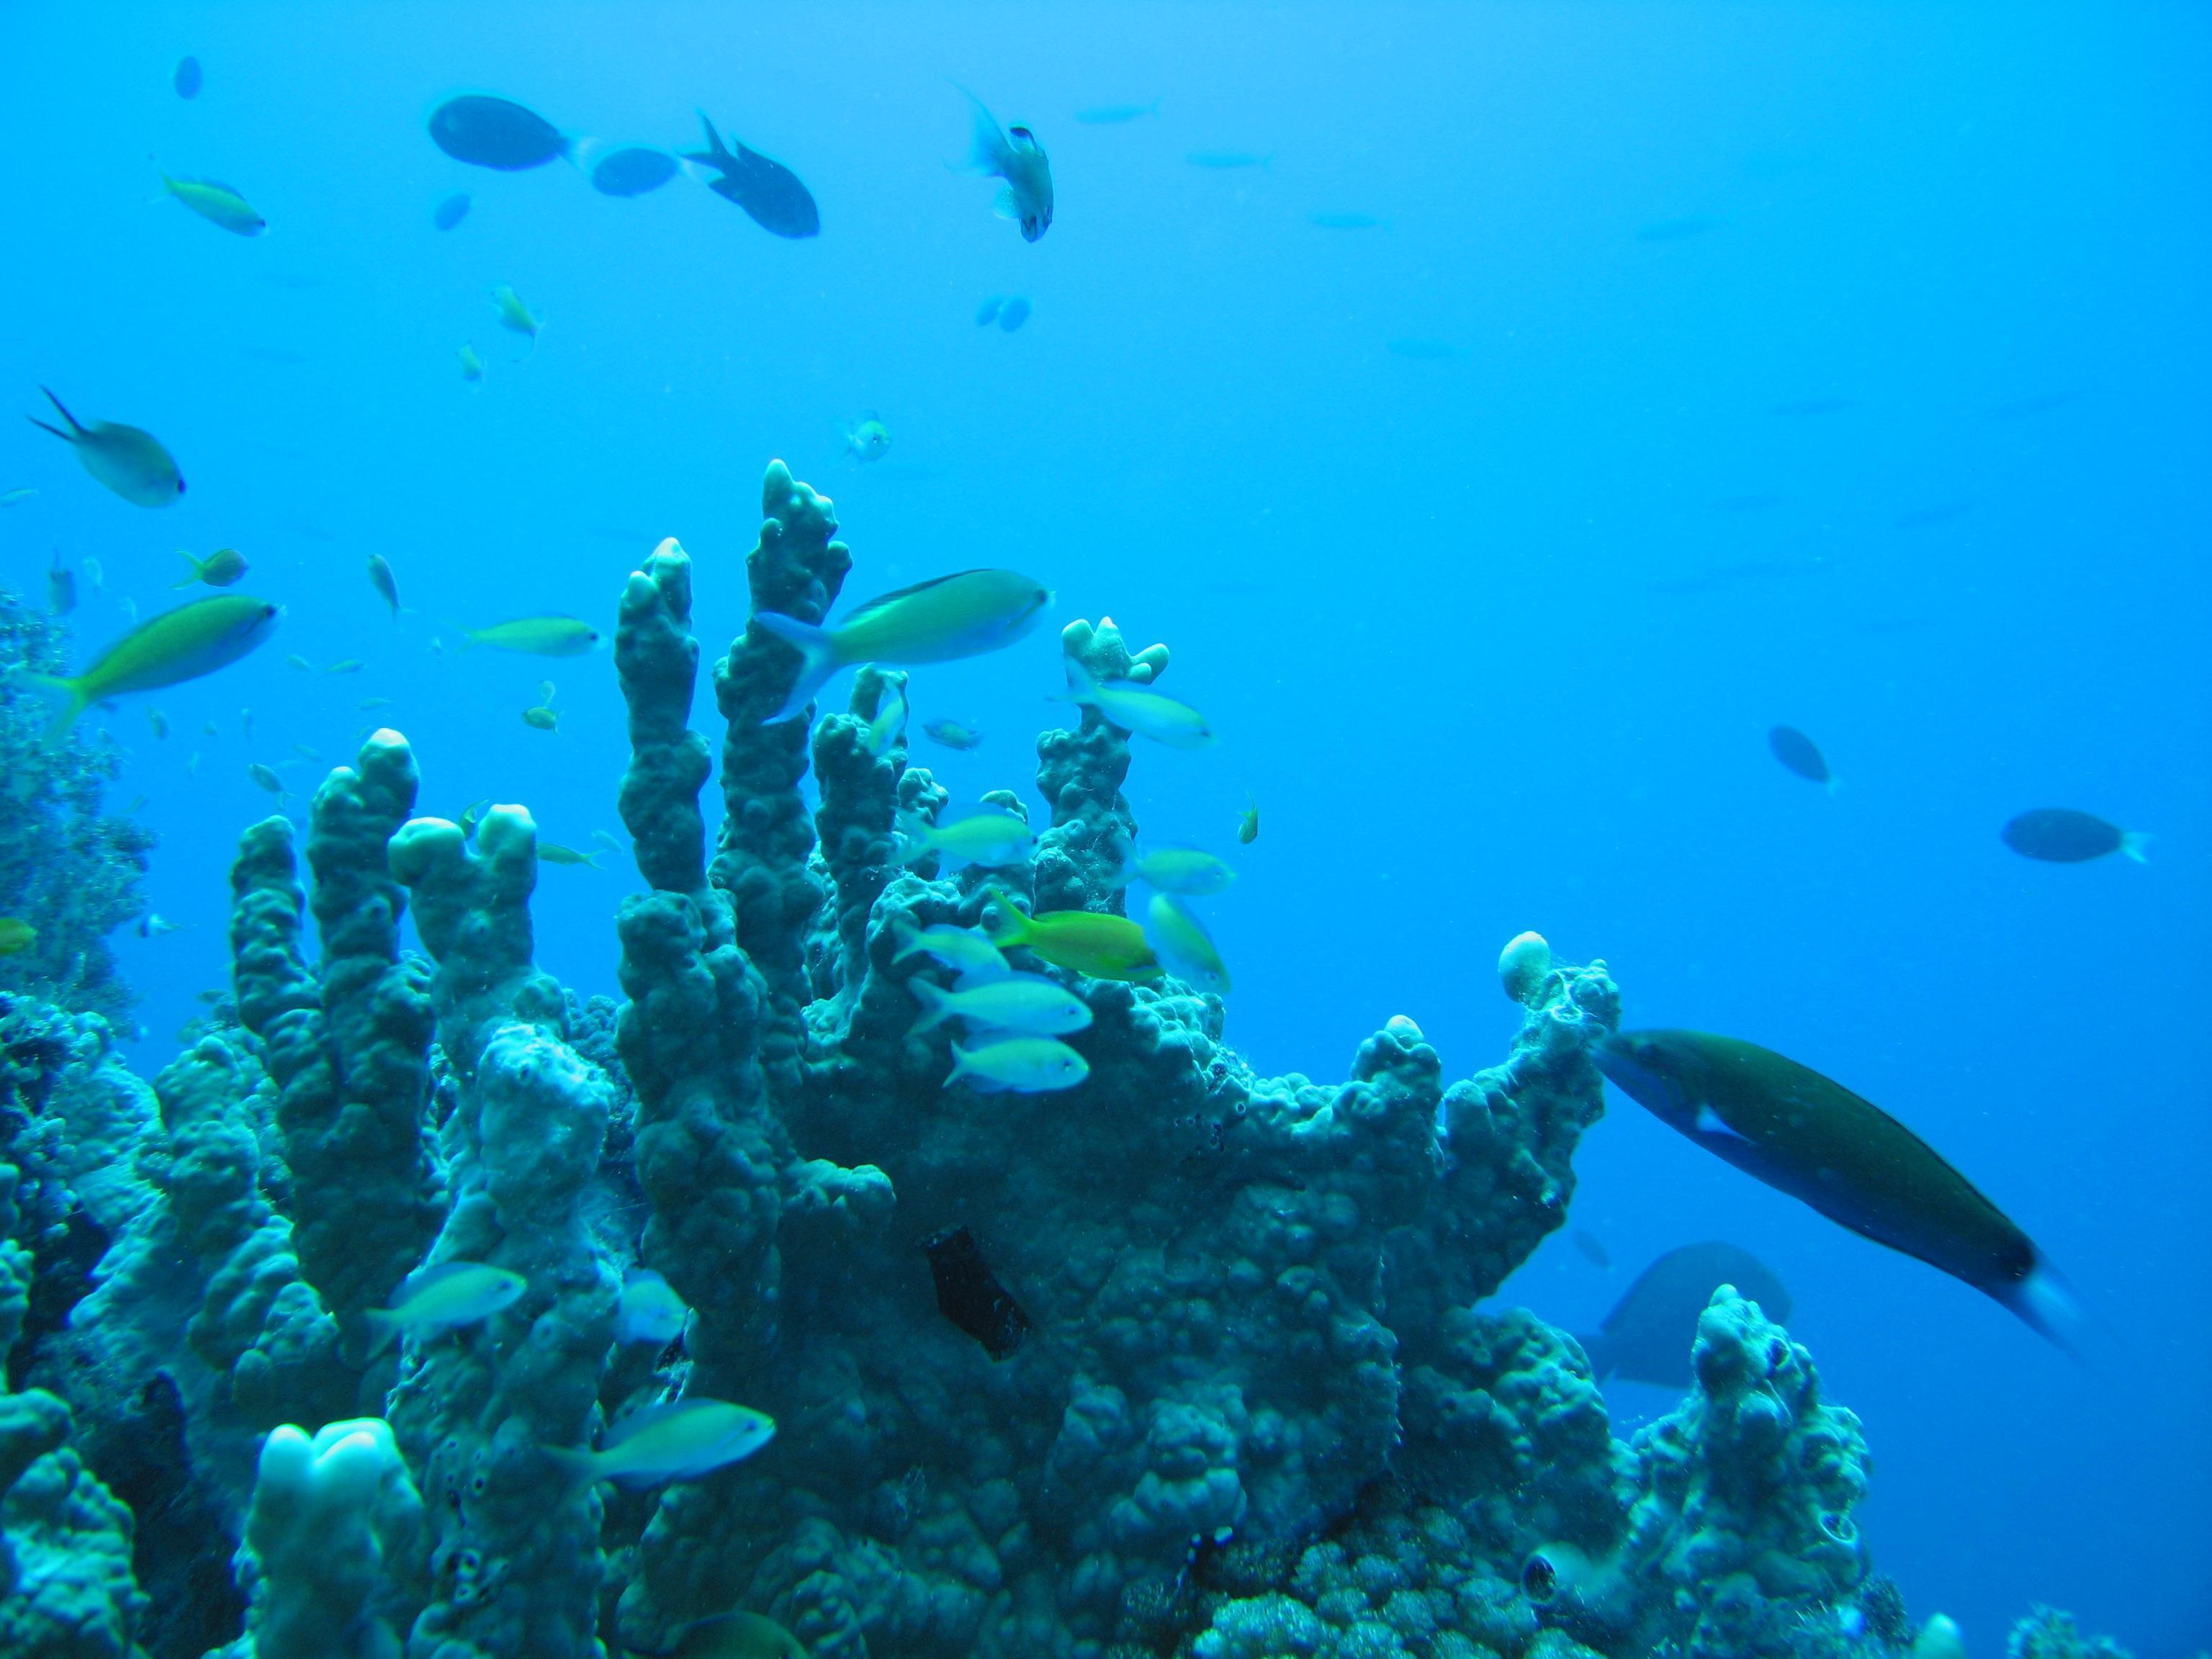Pseadanthias squamipinnis: (0, 565, 310, 749), (975, 878, 1186, 1023)
